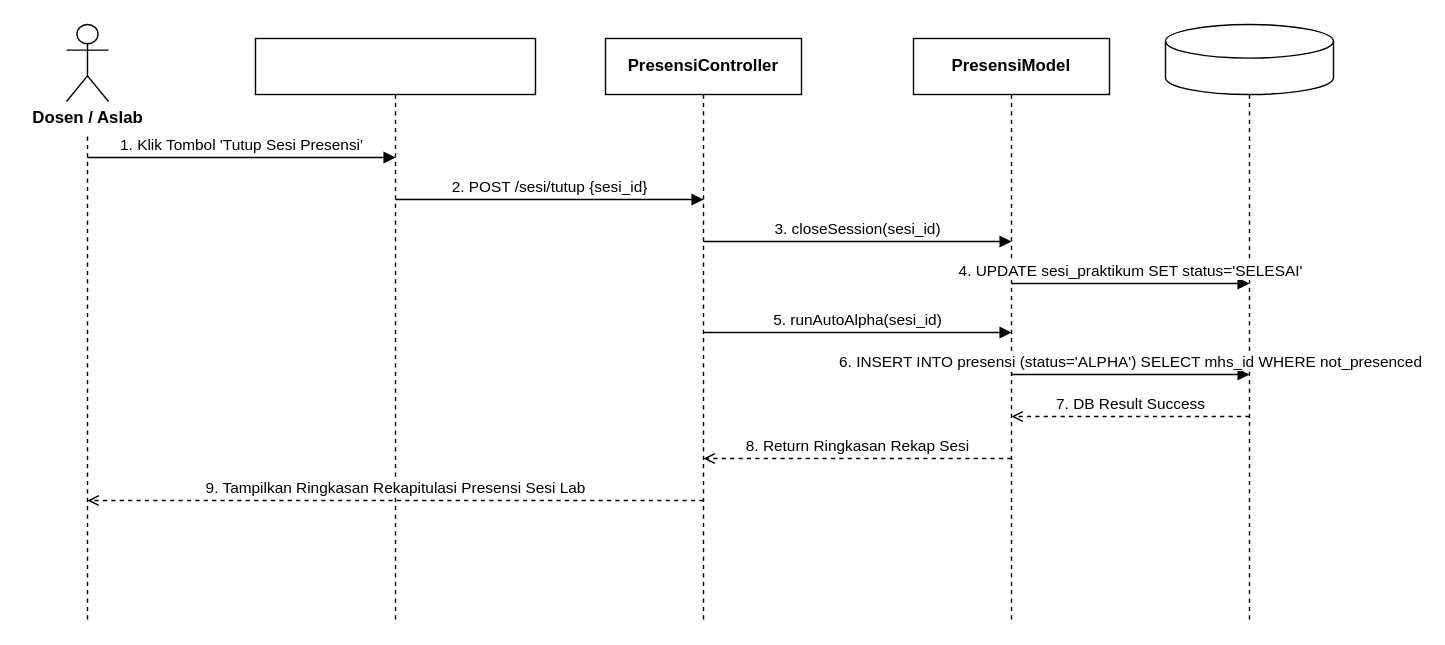
The diagram is 1445 pixels wide and 645 high, and some of its shapes have lost their labels. The shapes that lost their labels are listed below. From the top down, each one's centre as x and y in pixels, then its label:
point 395,65: View (sesi_praktikum.php)
point 1249,58: Database MySQL
